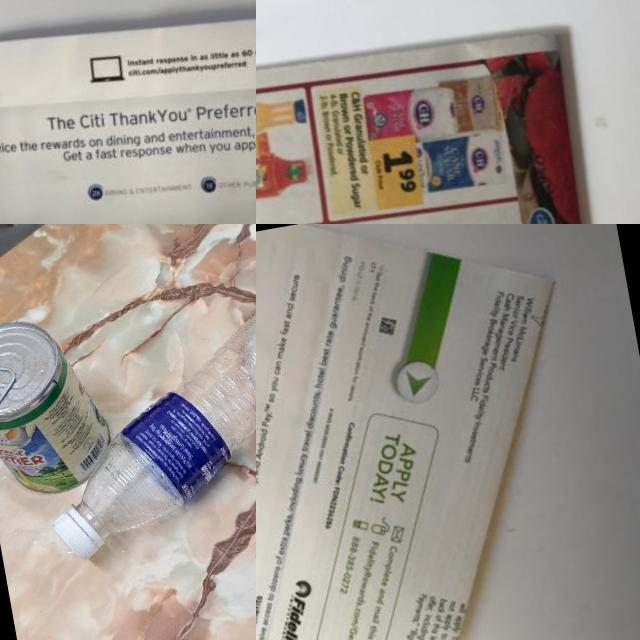aba de lata: (0, 362, 21, 417)
garrafa plástica: (50, 298, 256, 542)
lata: (0, 306, 119, 504)
papel: (256, 224, 620, 640), (256, 3, 634, 224), (0, 0, 256, 224)
tampa plástica: (52, 506, 104, 564)
